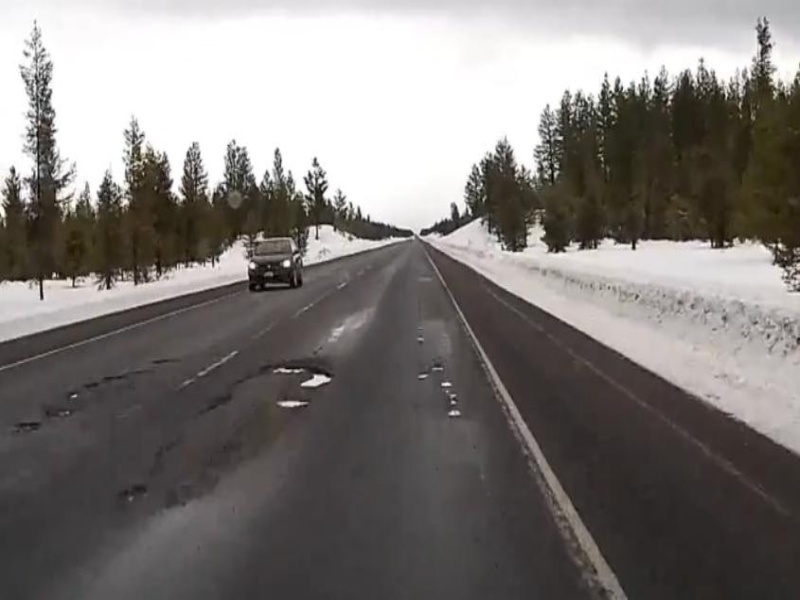pothole: (264, 362, 334, 390), (273, 395, 310, 414)
